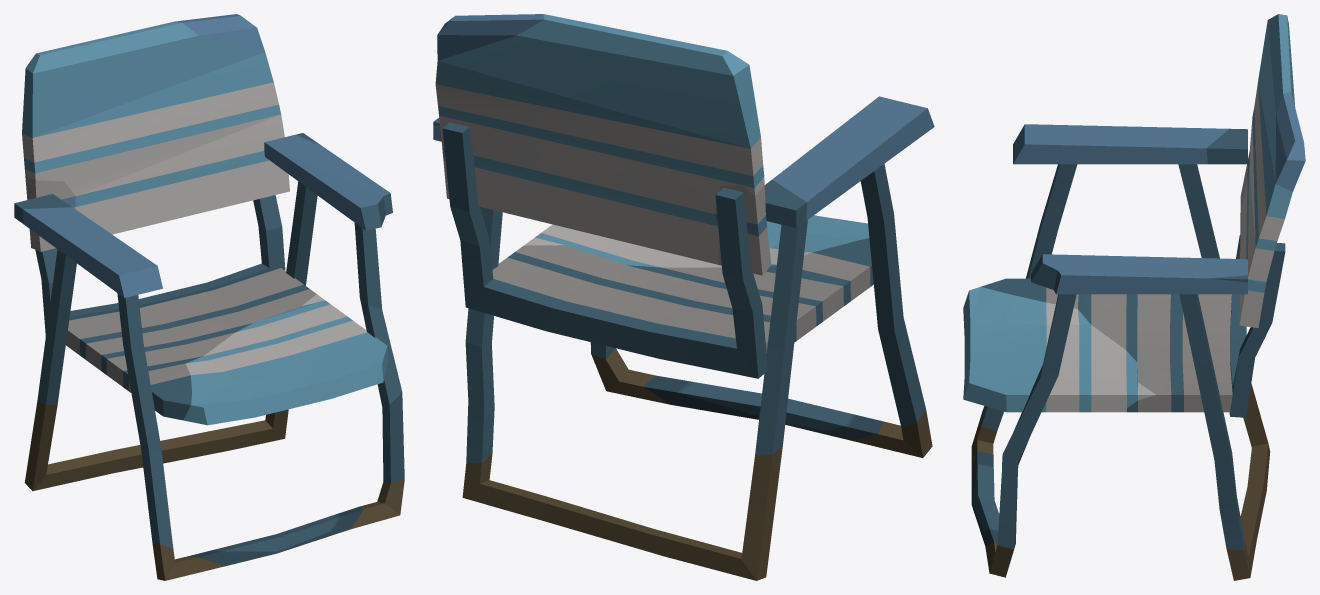
Rendered from SM_Prop_Deckchair_01_466.obj.
The picture shows the model from 3 angles, left to right: view 1: azimuth 30°, elevation 25°; view 2: azimuth 150°, elevation 25°; view 3: azimuth 270°, elevation 25°; orthographic projection. The views are drawn at different scales.
Visible parts, largest first — view 1: SM_Prop_Deckchair_01_0; view 2: SM_Prop_Deckchair_01_0; view 3: SM_Prop_Deckchair_01_0.
Boxes of the visible parts, bbox=[...] form: SM_Prop_Deckchair_01_0: bbox=[14, 14, 404, 580]; SM_Prop_Deckchair_01_0: bbox=[433, 14, 934, 580]; SM_Prop_Deckchair_01_0: bbox=[963, 14, 1305, 580].
Size of the model in its own units: 0.673 by 0.9415 by 0.6487.
1 material, 1 textured.
